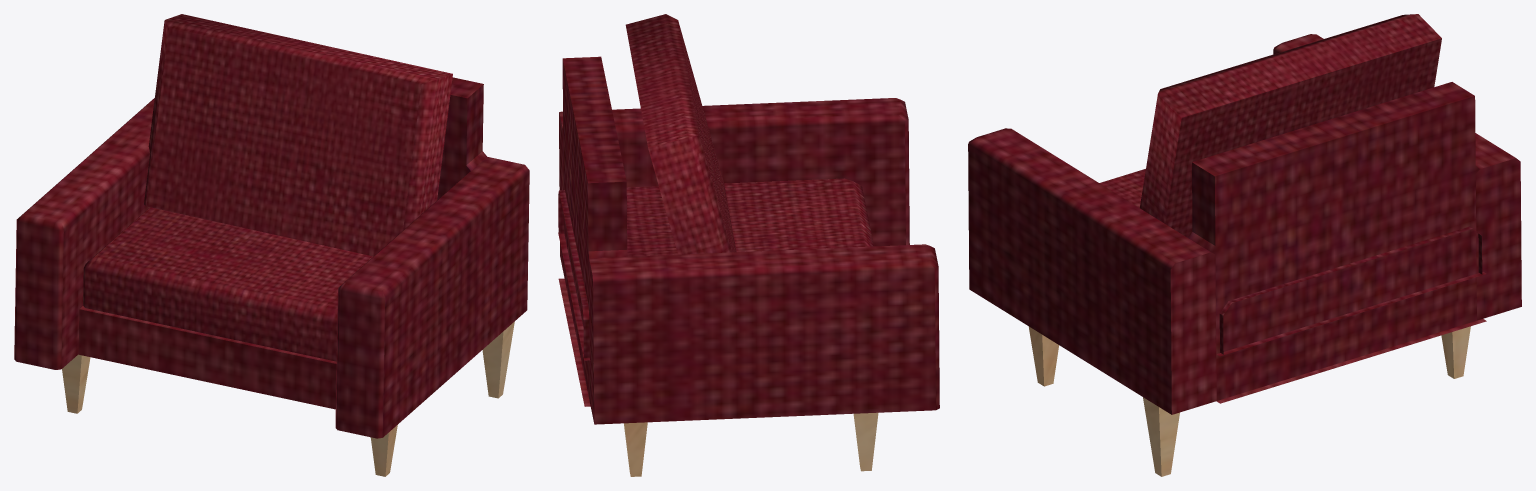
File: sillon.obj
The picture shows the model from 3 angles, left to right: view 1: azimuth 30°, elevation 25°; view 2: azimuth 150°, elevation 25°; view 3: azimuth 270°, elevation 25°; orthographic projection. The views are drawn at different scales.
Parts seen in each view (by area): view 1: partescasa:frame1; view 2: partescasa:frame1; view 3: partescasa:frame1.
Boxes of the visible parts, x1,y1,x2,y2 form: partescasa:frame1: (14, 14, 529, 476); partescasa:frame1: (558, 14, 939, 476); partescasa:frame1: (968, 14, 1521, 476).
Size of the model in its own units: 2.68 by 1.94 by 2.76.
Materials: 2 (2 with a texture image).
